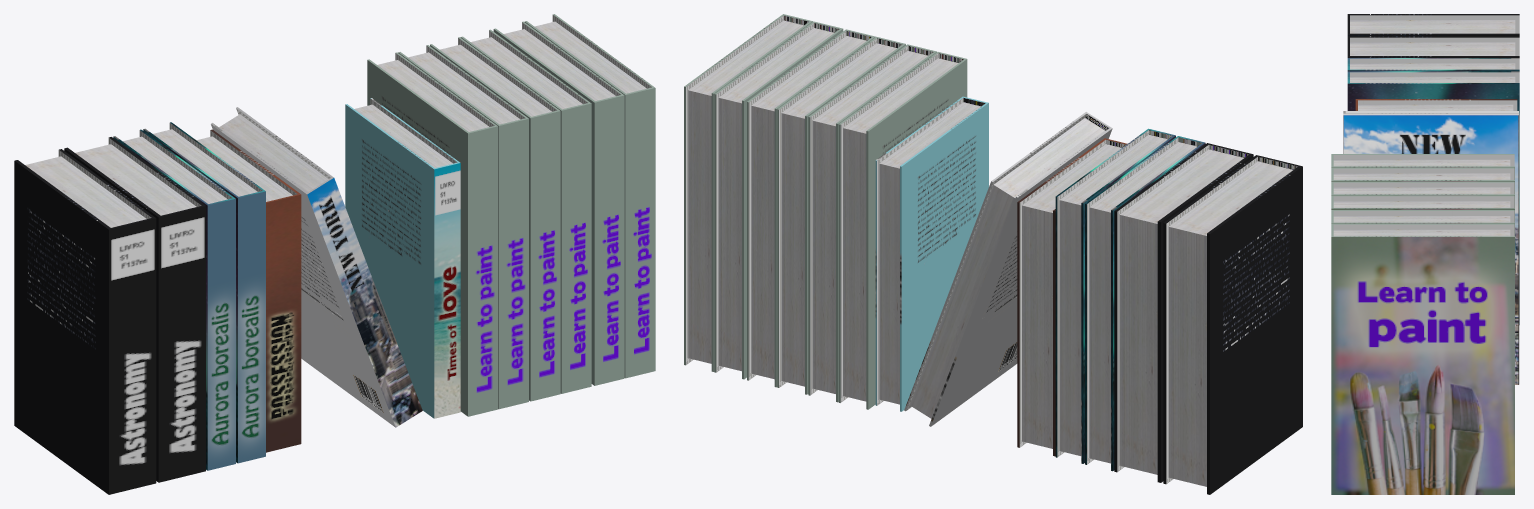
File: Books 9.FBX
3 views of the same model, side by side, from view 1: azimuth 30°, elevation 25°; view 2: azimuth 150°, elevation 25°; view 3: azimuth 270°, elevation 25° (orthographic). The views are drawn at different scales.
Visible parts, largest first — view 1: Books 9; view 2: Books 9; view 3: Books 9.
Part boxes in pixels (<box>): Books 9: <box>14,14,655,494</box>; Books 9: <box>684,14,1302,494</box>; Books 9: <box>1331,14,1519,494</box>.
Bounding box in the file's own units: 54.31 × 27.34 × 18.11.
1 material, 1 textured.
